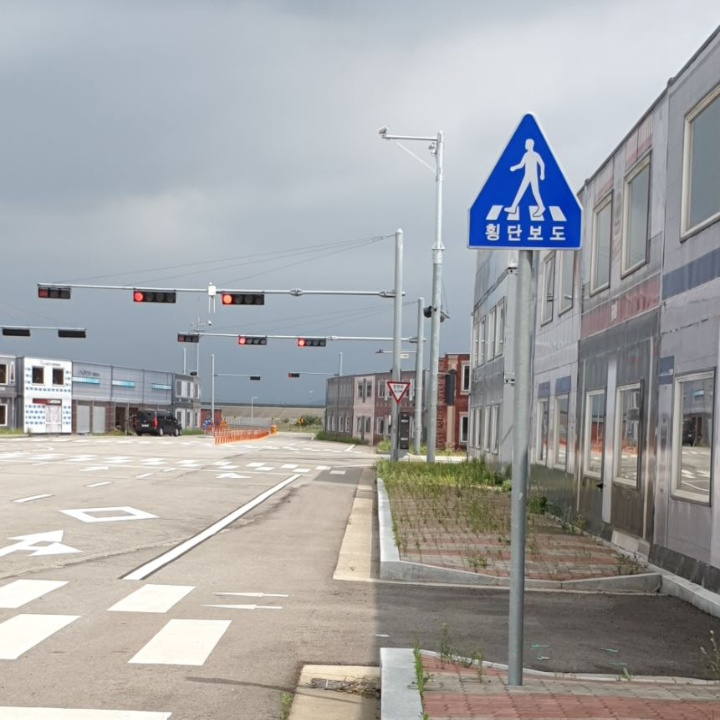cross: (499, 126, 554, 219)
